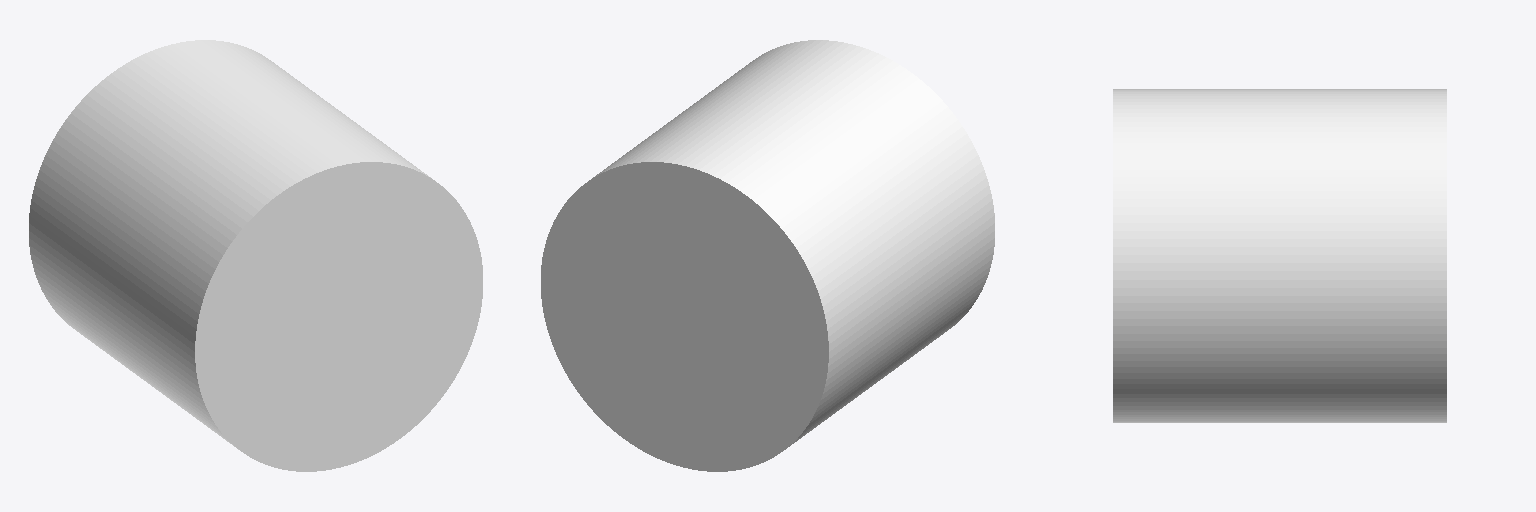
Rendered from Gran_cylinder.obj.
3 renders of one model, left to right at view 1: azimuth 30°, elevation 25°; view 2: azimuth 150°, elevation 25°; view 3: azimuth 270°, elevation 25°, orthographic.
Parts seen in each view (by area): view 1: Cylinder_Cylinder.001; view 2: Cylinder_Cylinder.001; view 3: Cylinder_Cylinder.001.
Boxes of the visible parts, x1,y1,x2,y2 form: Cylinder_Cylinder.001: [29, 40, 482, 471]; Cylinder_Cylinder.001: [541, 40, 994, 471]; Cylinder_Cylinder.001: [1113, 89, 1446, 422].
Size of the model in its own units: 2 by 2 by 2.